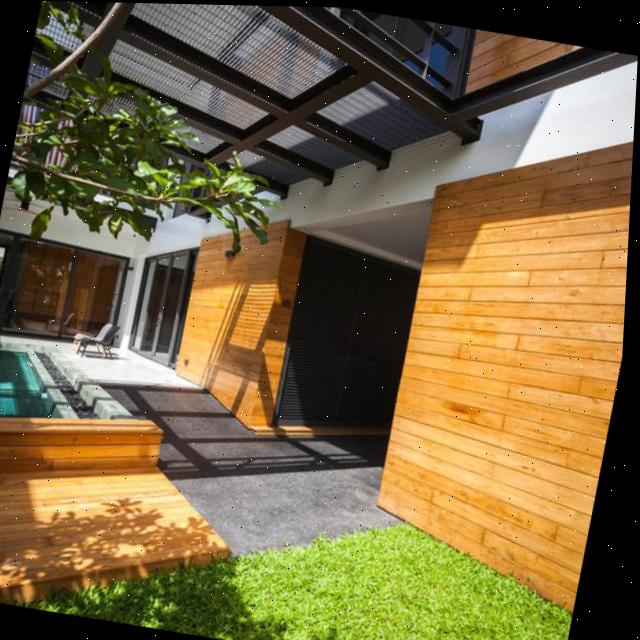building: (0, 0, 640, 614)
